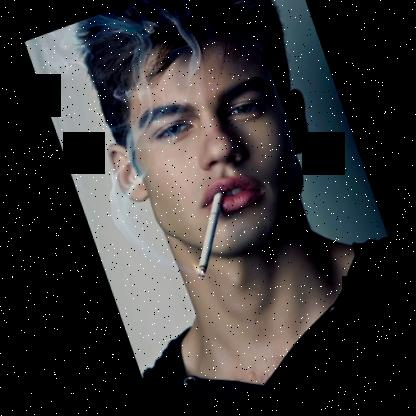Male: (80, 17, 344, 289)
